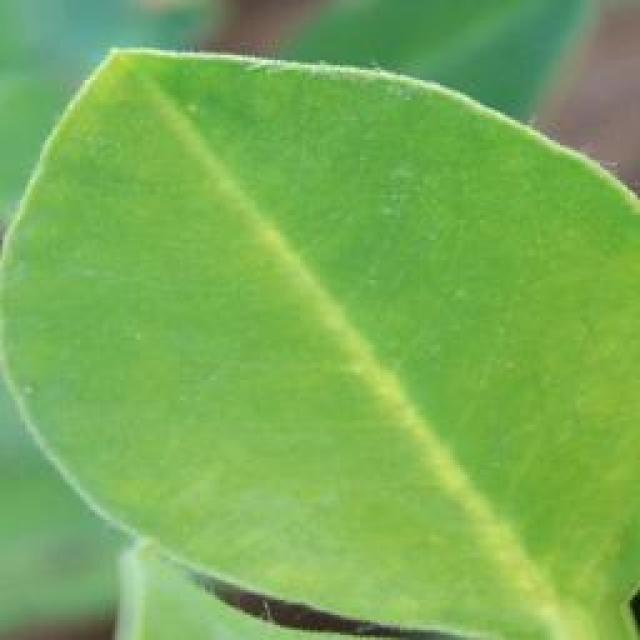Yellow_and_black_sigatoka: (1, 39, 640, 625)
